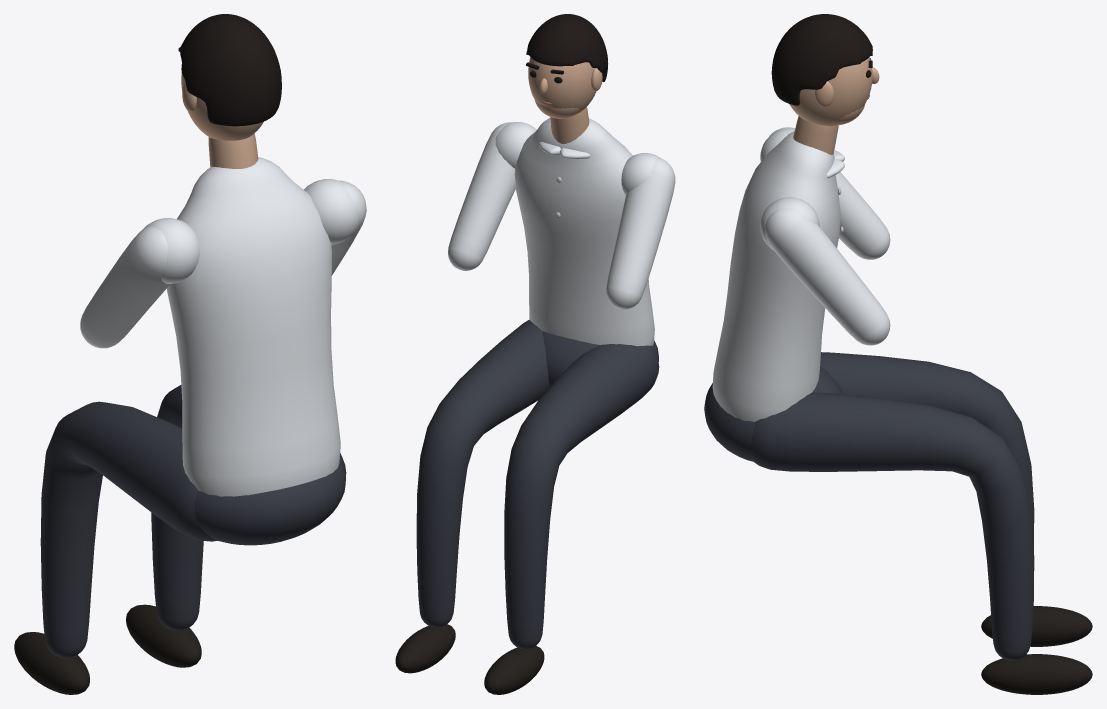
The model's file is nguoi_ngoi_nam.glb.
3 views of the same model, side by side, from view 1: azimuth 30°, elevation 25°; view 2: azimuth 150°, elevation 25°; view 3: azimuth 270°, elevation 25° (orthographic). The views are drawn at different scales.
Parts seen in each view (by area): view 1: nguoi_ngoi_nam; view 2: nguoi_ngoi_nam; view 3: nguoi_ngoi_nam.
Boxes of the visible parts, x1,y1,x2,y2 form: nguoi_ngoi_nam: [14, 14, 366, 694]; nguoi_ngoi_nam: [395, 14, 675, 694]; nguoi_ngoi_nam: [704, 14, 1092, 694].
Bounding box in the file's own units: 0.4949 × 1.46 × 0.7869.
